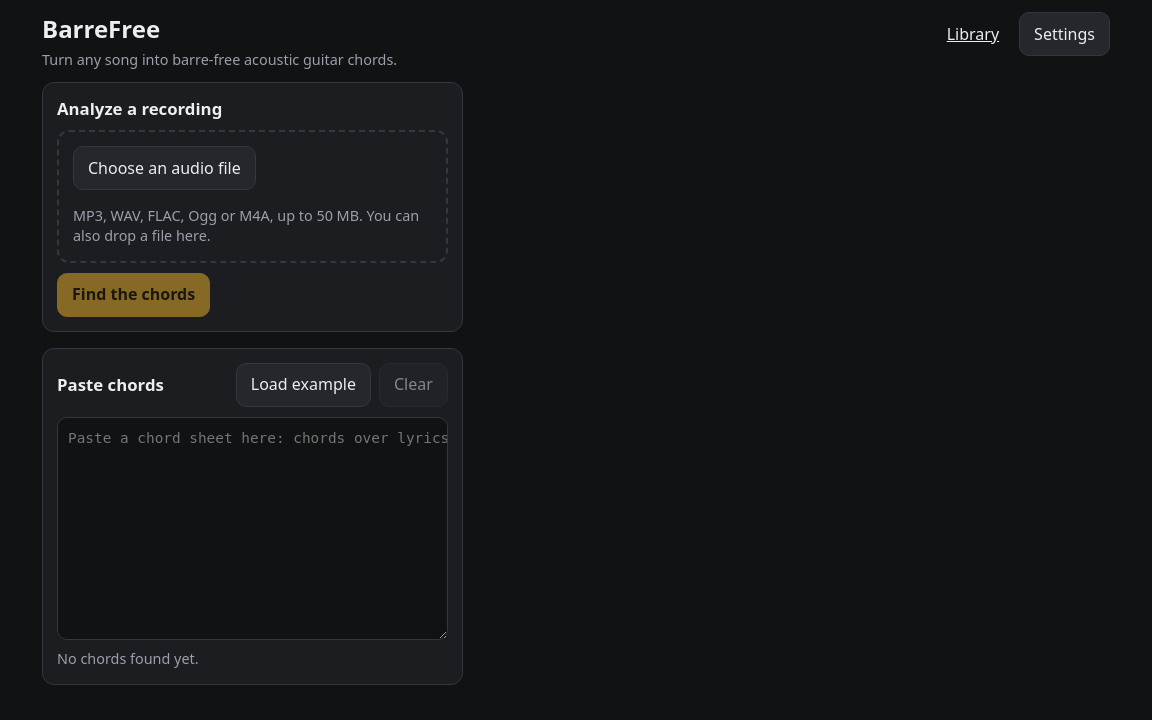
Scenario: App › turns a pasted sheet barre-free and keeps the columns (easy mode)
Replace the text in the text box named "Paste chords" with "F        C          G         Am One two three four five six seven Bm       G          D         A Eight nine ten eleven twelve " at (252,528), box [57,417,448,640]
(page scrolled)
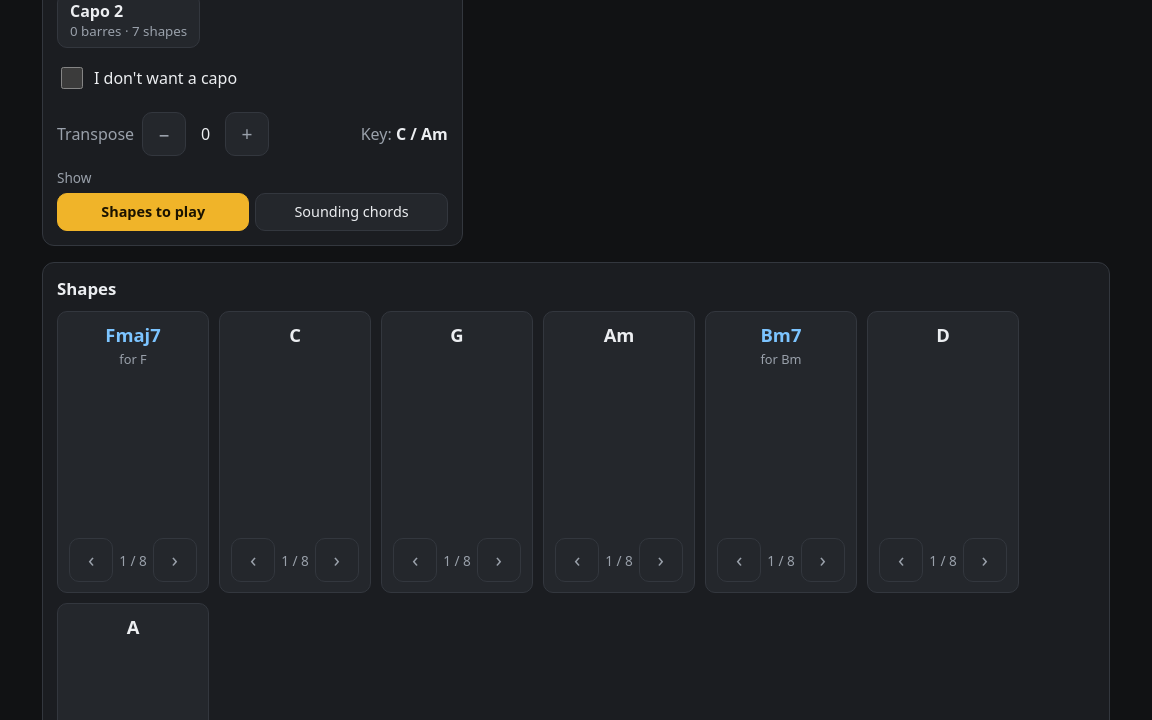
Expected: the text "for F" is shown, [119,351,147,369]
